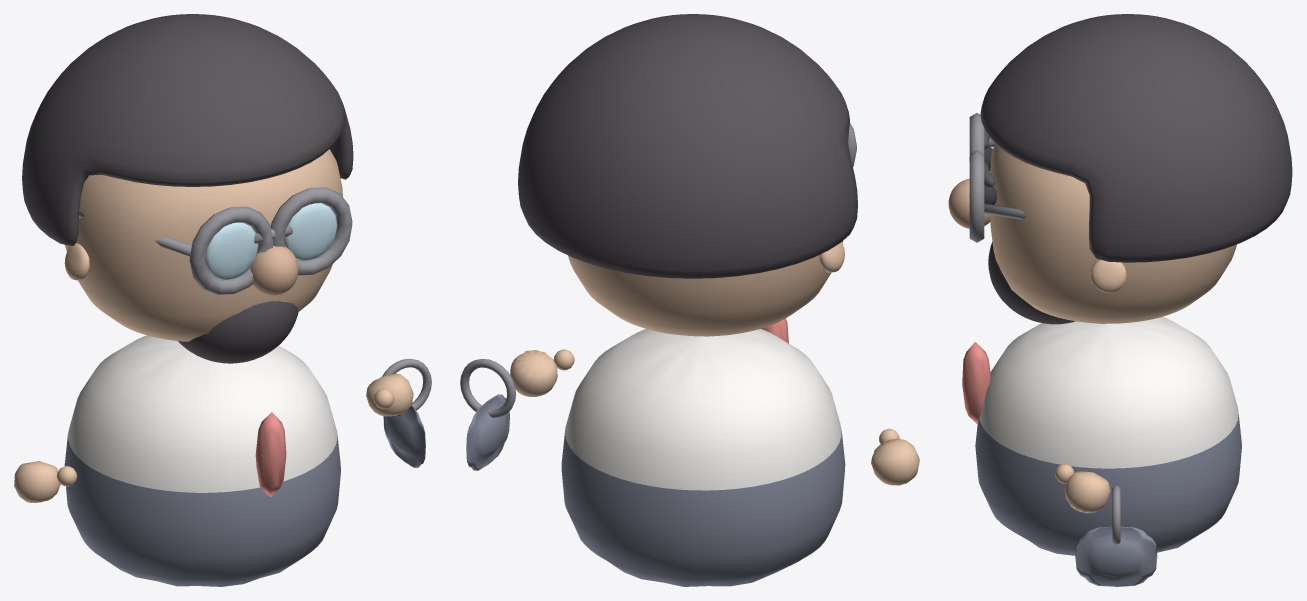
File: Pedestrian_Business.fbx
The picture shows the model from 3 angles, left to right: view 1: azimuth 30°, elevation 25°; view 2: azimuth 150°, elevation 25°; view 3: azimuth 270°, elevation 25°; orthographic projection. The views are drawn at different scales.
Parts seen in each view (by area): view 1: PedBody, PedHair, PedHead, PedBeard, PedGlassL, PedGlassR, PedGlassLLens, PedGlassRLens, PedTie, PedNose, PedCase, PedHandL (+3 smaller); view 2: PedHair, PedBody, PedHead, PedCase, PedHandL, PedHandR, PedCaseH; view 3: PedHair, PedBody, PedHead, PedCase, PedTie, PedHandR, PedGlassR, PedBeard, PedEarR, PedNose, PedGlassL, PedCaseH (+1 smaller).
Boxes of the visible parts, x1,y1,x2,y2 form: PedBody: (64,335,340,586); PedHair: (22,14,353,245); PedHead: (65,149,342,341); PedBeard: (178,301,298,363); PedGlassL: (189,206,273,295); PedGlassR: (270,187,352,275); PedGlassLLens: (205,222,258,280); PedGlassRLens: (284,203,337,260); PedTie: (255,412,286,496); PedNose: (250,245,298,295); PedCase: (383,405,425,467); PedHandL: (14,461,60,502); PedHair: (518,14,857,278); PedBody: (561,329,845,586); PedHead: (568,241,842,336); PedCase: (466,394,509,470); PedHandL: (871,438,919,485); PedHandR: (510,350,557,396); PedCaseH: (460,359,515,417); PedHair: (980,14,1292,262); PedBody: (975,317,1241,555); PedHead: (990,143,1236,323); PedCase: (1075,526,1157,586); PedTie: (962,342,990,424); PedHandR: (1065,471,1110,513); PedGlassR: (969,150,984,242); PedBeard: (988,242,1075,324); PedEarR: (1090,260,1126,292); PedNose: (948,178,990,228); PedGlassL: (969,113,984,153); PedCaseH: (1112,485,1120,544).
Size of the model in its own units: 125 by 144 by 90.1.
